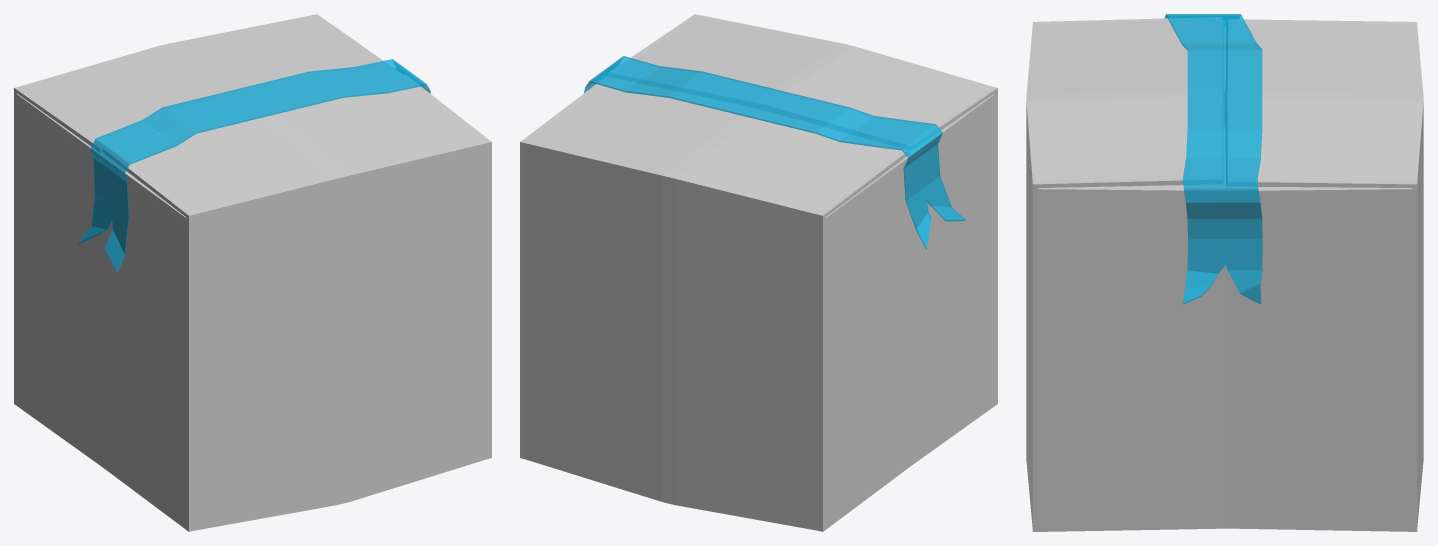
The model's file is cardboardbox.fbx.
3 views of the same model, side by side, from view 1: azimuth 30°, elevation 25°; view 2: azimuth 150°, elevation 25°; view 3: azimuth 270°, elevation 25° (orthographic). The views are drawn at different scales.
Visible parts, largest first — view 1: box closed, tape; view 2: box closed, tape; view 3: box closed, tape.
Boxes of the visible parts, x1,y1,x2,y2 form: box closed: (14, 14, 491, 531); tape: (78, 59, 430, 272); box closed: (520, 14, 997, 531); tape: (584, 56, 965, 249); box closed: (1026, 17, 1423, 531); tape: (1164, 14, 1262, 304).
Size of the model in its own units: 235 by 218 by 213.
